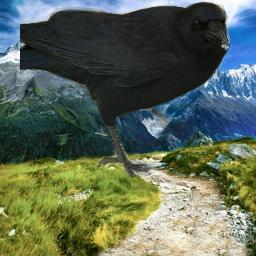Crow: (20, 1, 230, 177)
